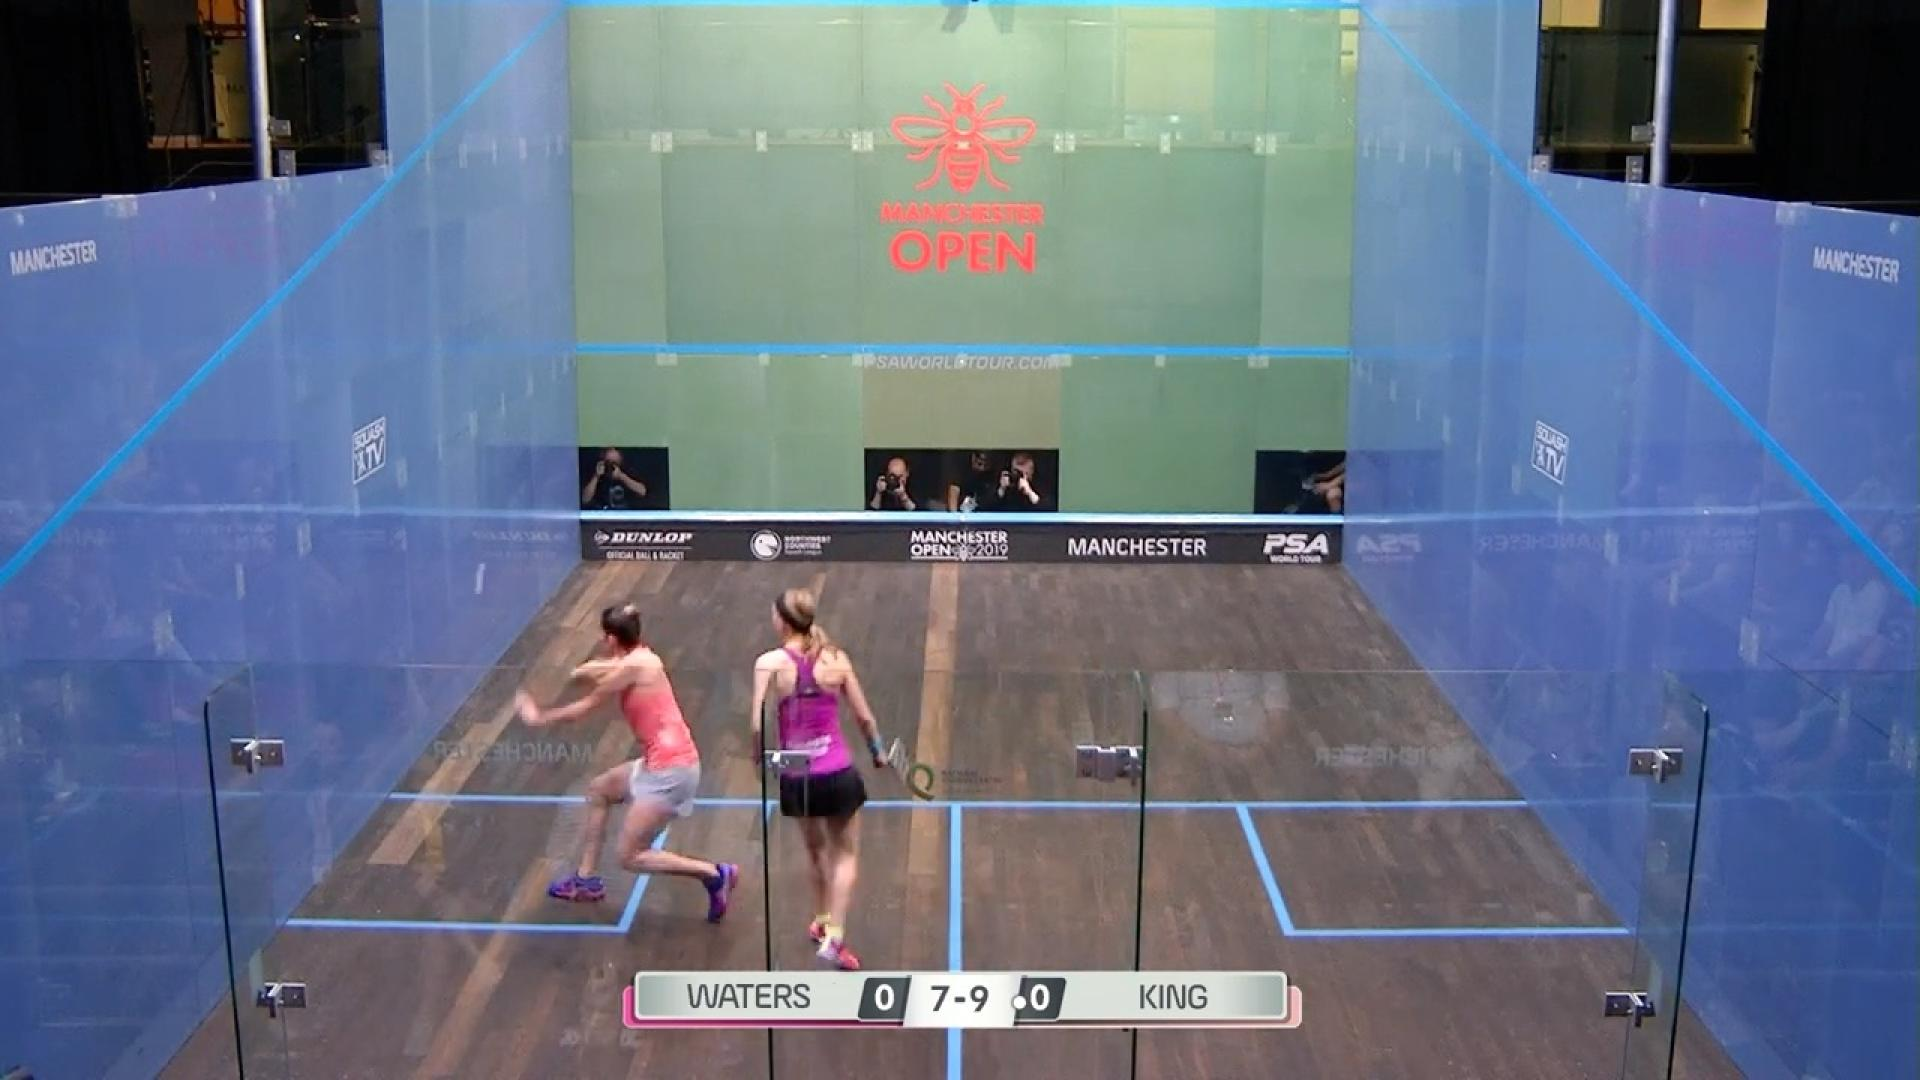Squash-Ball: (447, 541, 508, 613)
